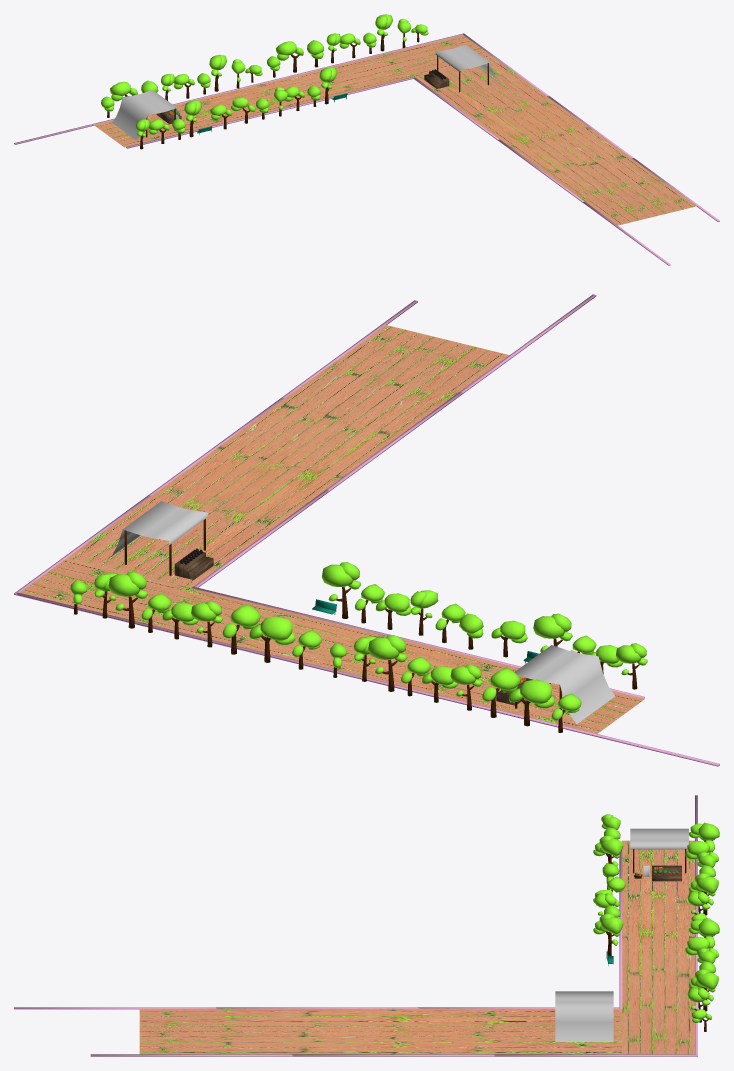
File: all_obj.obj
The picture shows the model from 3 angles, top to bottom: view 1: azimuth 30°, elevation 25°; view 2: azimuth 150°, elevation 25°; view 3: azimuth 270°, elevation 25°; orthographic projection. The views are drawn at different scales.
Visible parts, largest first — view 1: Plane007, Plane008, Plane004, Plane001, Plane003, Box065, Box058, Tree023; view 2: Plane007, Plane008, Plane004, Plane001, Box065, Plane003, Tree004, Tree019, Tree028, Tree023, Tree016, Box058 (+5 smaller); view 3: Plane004, Plane007, Plane008, Plane003, Plane001, Box071, Box073, Box072, Box074, Box058, Tree028, Tree004 (+3 smaller).
Boxes of the visible parts, x1,y1,x2,y2 form: Plane007: [415, 67, 670, 225]; Plane008: [444, 57, 696, 218]; Plane004: [94, 35, 493, 147]; Plane001: [112, 90, 177, 140]; Plane003: [435, 44, 498, 80]; Box065: [14, 33, 462, 144]; Box058: [126, 76, 415, 148]; Tree023: [276, 41, 303, 72]; Plane007: [120, 335, 509, 587]; Plane008: [67, 325, 464, 570]; Plane004: [19, 558, 644, 733]; Plane001: [514, 645, 614, 723]; Box065: [16, 592, 719, 766]; Plane003: [107, 501, 207, 559]; Tree004: [368, 635, 407, 691]; Tree019: [108, 571, 147, 628]; Tree028: [322, 562, 360, 618]; Tree023: [249, 616, 295, 662]; Tree016: [509, 679, 554, 726]; Box058: [191, 586, 644, 698]; Plane004: [622, 840, 694, 1054]; Plane007: [139, 1008, 621, 1039]; Plane008: [139, 1024, 621, 1054]; Plane003: [555, 991, 613, 1041]; Plane001: [630, 828, 688, 849]; Box071: [494, 1054, 697, 1056]; Box073: [90, 1054, 293, 1056]; Box072: [292, 1054, 494, 1056]; Box074: [14, 1007, 216, 1009]; Box058: [619, 850, 622, 1008]; Tree028: [599, 913, 623, 955]; Tree004: [695, 873, 718, 915].
Bounding box in the file's own units: 2314 × 171 × 2651.
